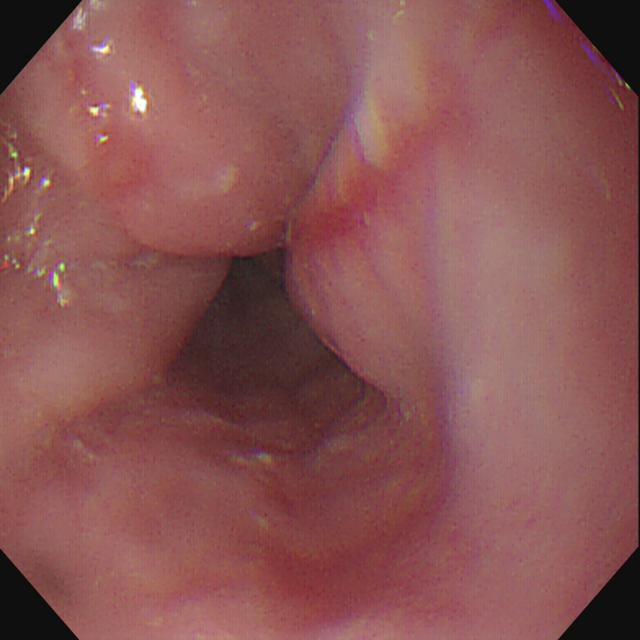A: (260, 547, 423, 619), (298, 167, 386, 255), (87, 128, 158, 204)
E: (194, 237, 295, 360)
U: (2, 257, 70, 312), (132, 79, 150, 117)
